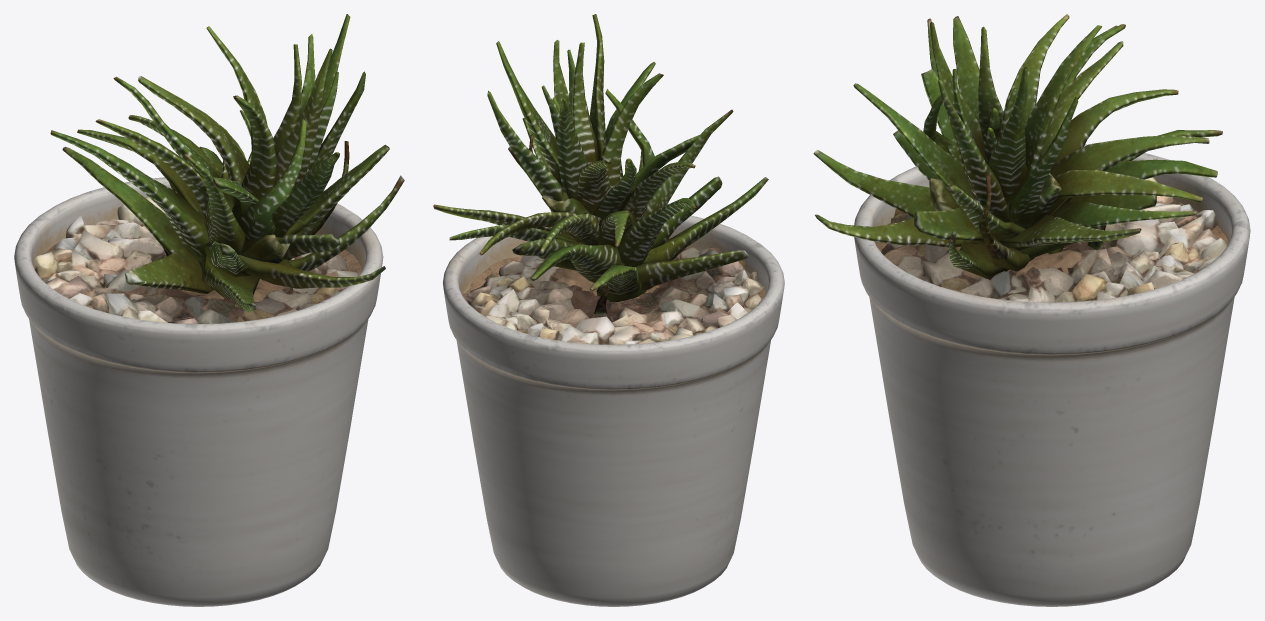
The model's file is ph-plant-small.glb.
The picture shows the model from 3 angles, left to right: view 1: azimuth 30°, elevation 25°; view 2: azimuth 150°, elevation 25°; view 3: azimuth 270°, elevation 25°; orthographic projection. The views are drawn at different scales.
Parts seen in each view (by area): view 1: potted_plant_04_pot, potted_plant_04_plant, potted_plant_04_ground, potted_plant_04_dirt; view 2: potted_plant_04_pot, potted_plant_04_plant, potted_plant_04_ground, potted_plant_04_dirt; view 3: potted_plant_04_pot, potted_plant_04_plant, potted_plant_04_ground, potted_plant_04_dirt.
Part boxes in pixels (<box>): potted_plant_04_pot: <box>14,177,383,606</box>; potted_plant_04_plant: <box>50,14,404,311</box>; potted_plant_04_ground: <box>34,196,357,323</box>; potted_plant_04_dirt: <box>34,238,362,307</box>; potted_plant_04_pot: <box>443,215,784,606</box>; potted_plant_04_plant: <box>433,14,768,314</box>; potted_plant_04_ground: <box>463,247,765,344</box>; potted_plant_04_dirt: <box>462,247,765,306</box>; potted_plant_04_pot: <box>854,144,1250,606</box>; potted_plant_04_plant: <box>813,14,1222,279</box>; potted_plant_04_ground: <box>881,177,1227,302</box>; potted_plant_04_dirt: <box>875,200,1228,297</box>.
Size of the model in its own units: 0.1679 by 0.2675 by 0.1848.
1 material, 1 textured.
